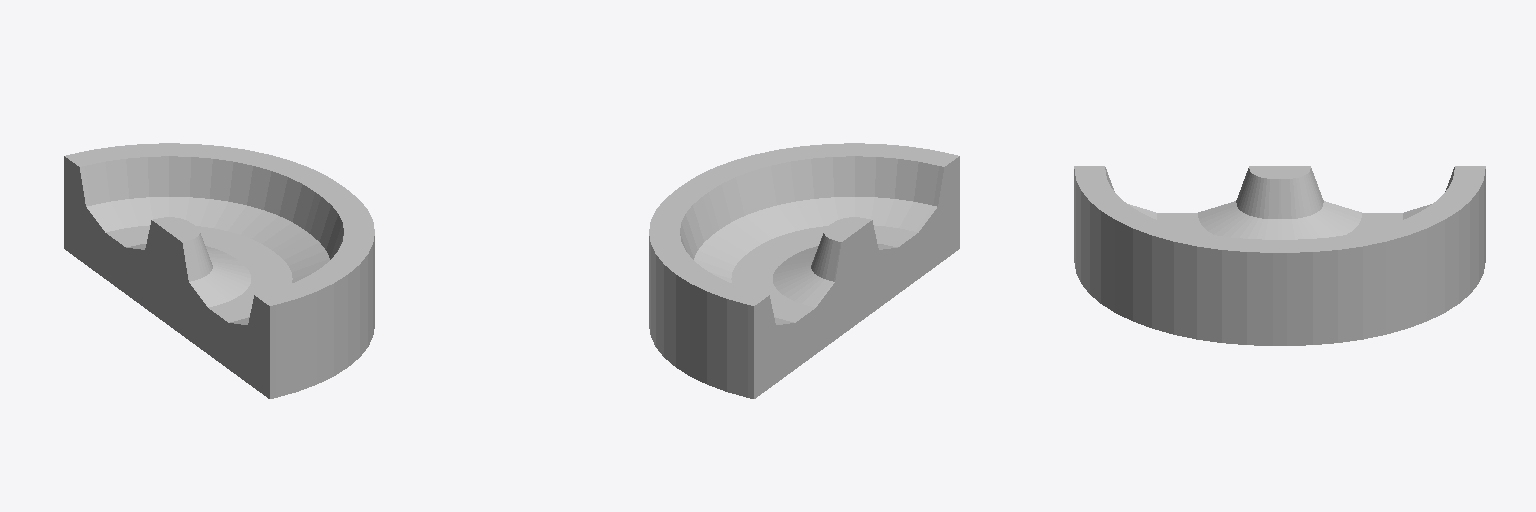
File: bend.obj
The picture shows the model from 3 angles: view 1: azimuth 30°, elevation 25°; view 2: azimuth 150°, elevation 25°; view 3: azimuth 270°, elevation 25°; orthographic projection.
Visible parts, largest first — view 1: bend; view 2: bend; view 3: bend.
Boxes of the visible parts, x1,y1,x2,y2 form: bend: [64, 143, 374, 398]; bend: [649, 143, 959, 398]; bend: [1074, 166, 1485, 345].
Bounding box in the file's own units: 1 × 0.5 × 2.